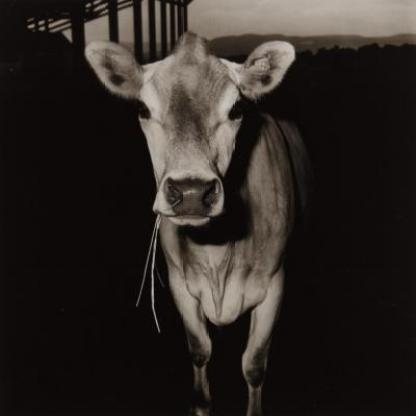lower: (180, 217, 205, 227)
mouth: (153, 172, 226, 229)
upper: (181, 188, 206, 203)
